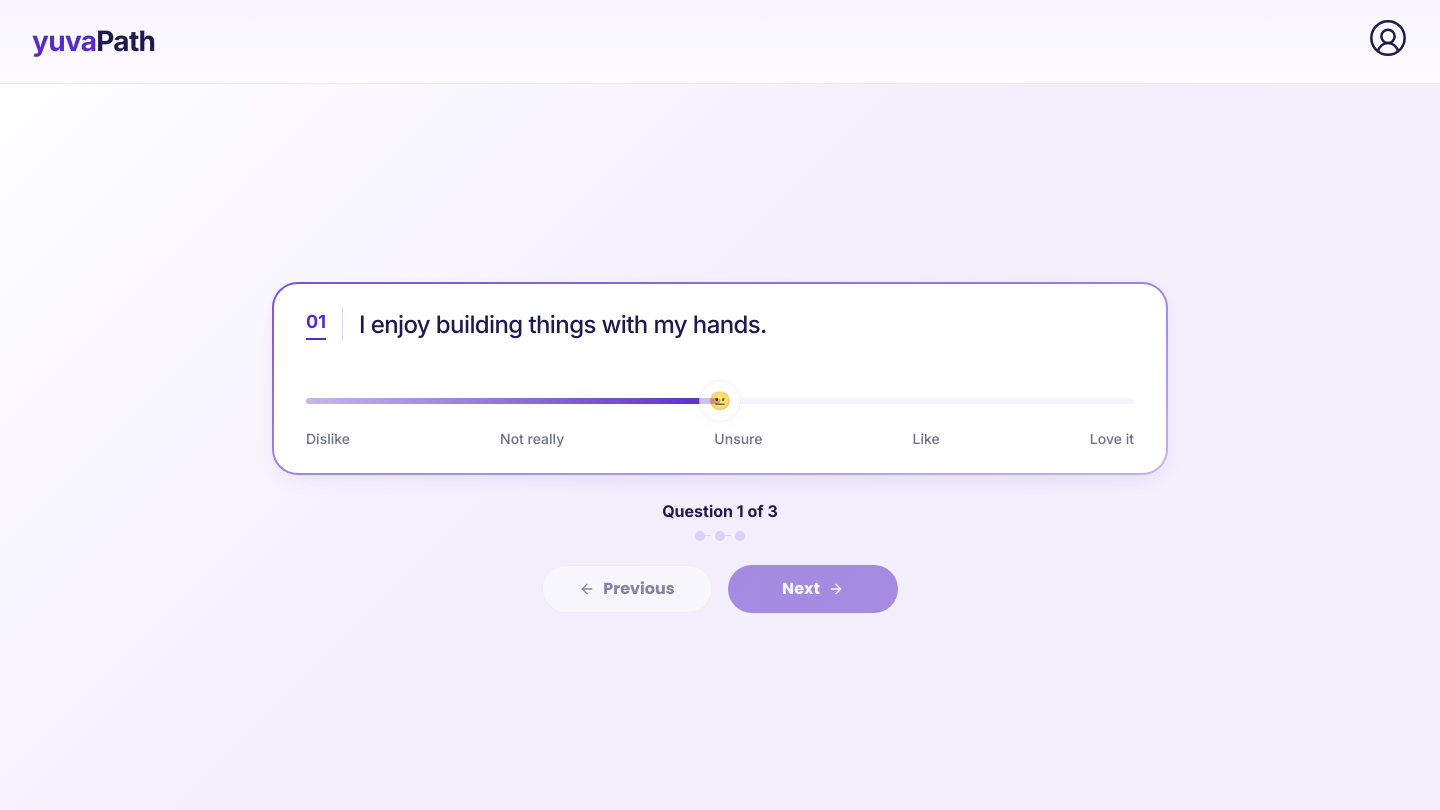
Test: RiasecAssessmentPage › saves and advances on its own when an answer is picked, with no Next click
Expected: the text "I enjoy building things with my hands." is shown, [359,310,767,338]
Step 1. Click the button "Love it" → (1112, 438), box [1090,428,1134,448]
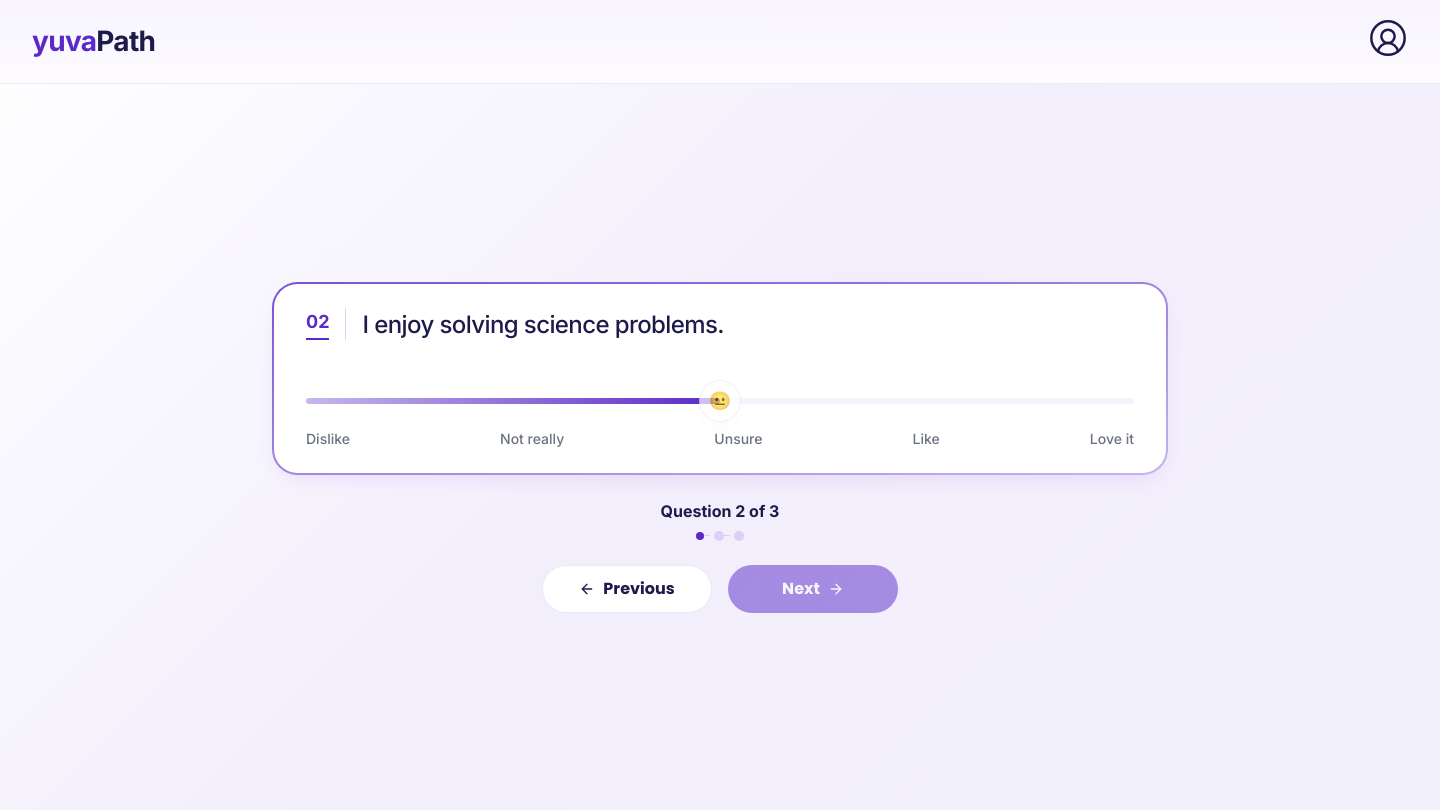
Expected: the text "I enjoy solving science problems." is shown, [362,310,724,338]
